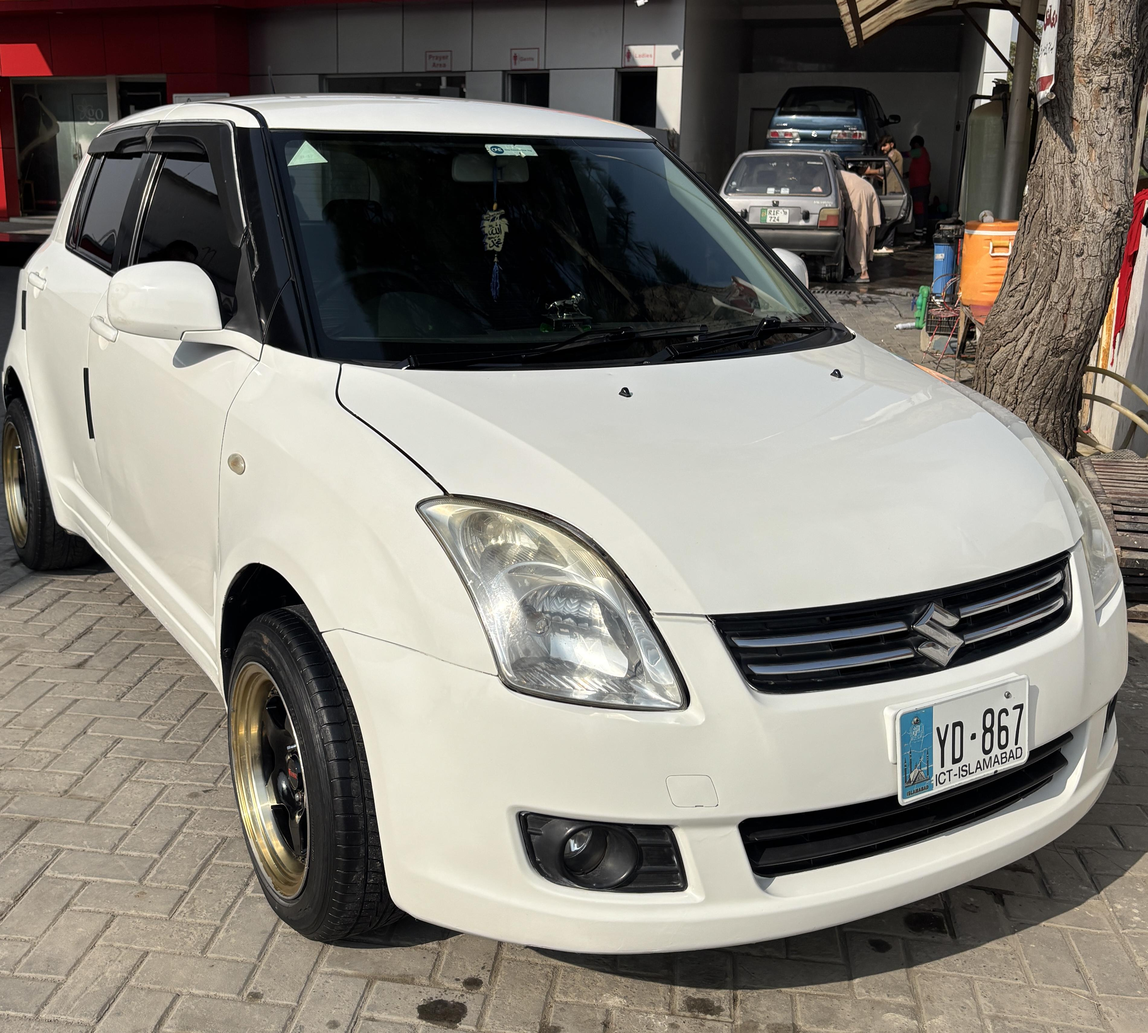Hatchback: (57, 94, 1144, 951)
